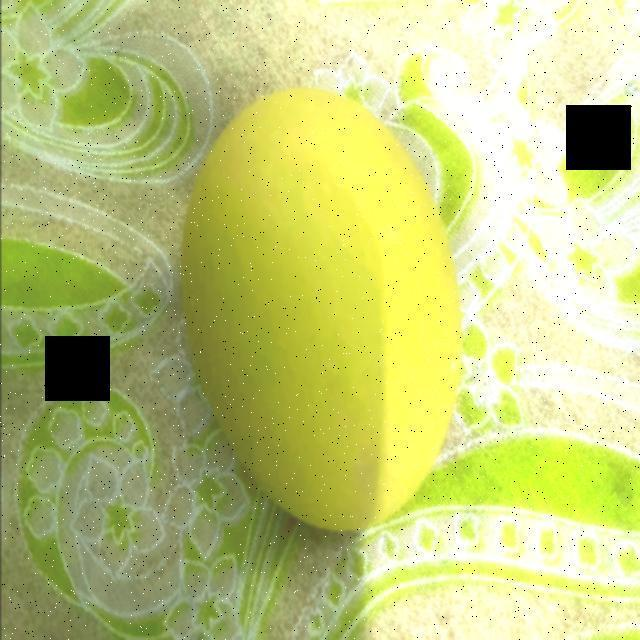egg: (174, 83, 472, 541)
